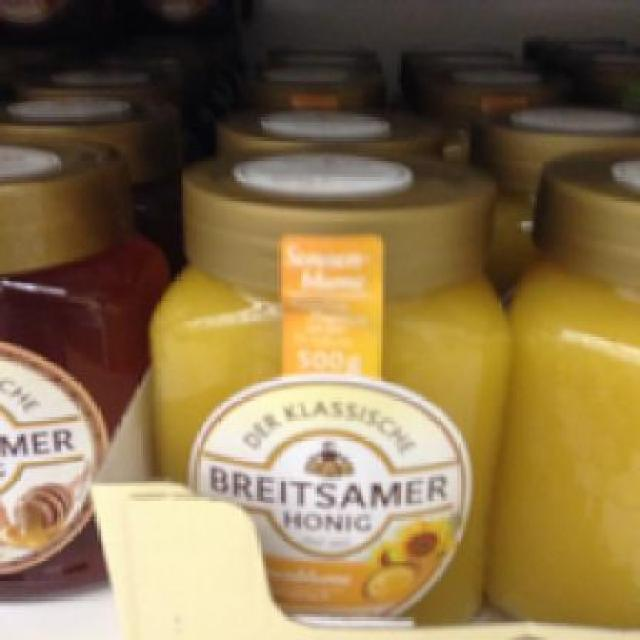Honey: (137, 146, 512, 634)
